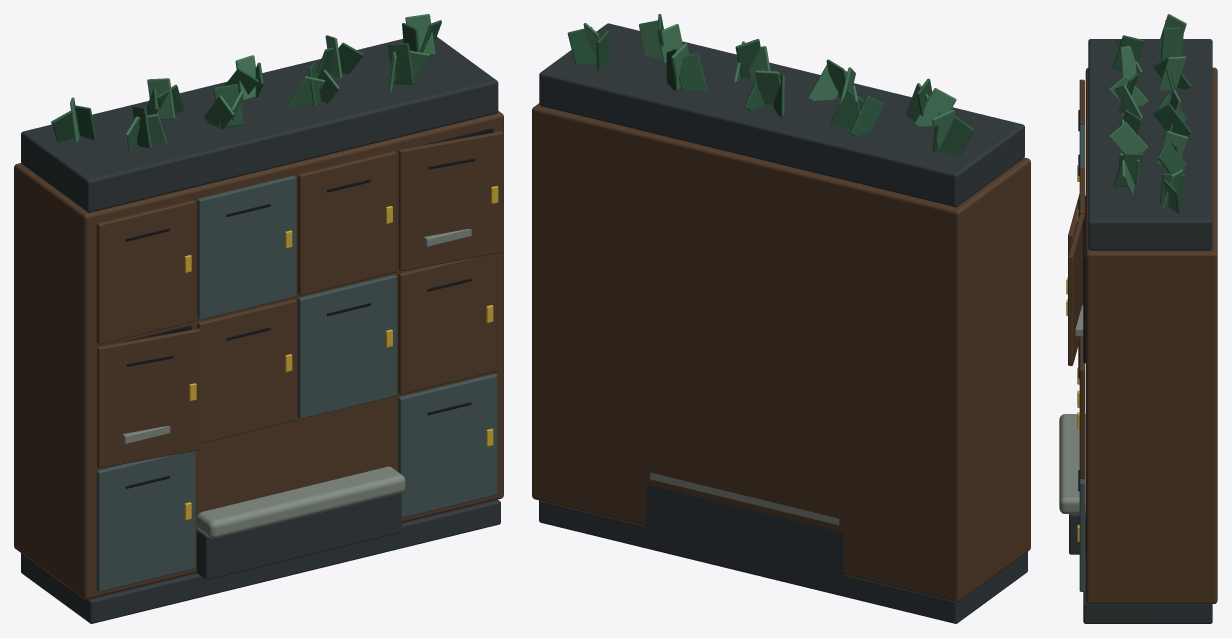
File: campus-lockers-walnut.glb
3 views of the same model, side by side, from view 1: azimuth 30°, elevation 25°; view 2: azimuth 150°, elevation 25°; view 3: azimuth 270°, elevation 25° (orthographic). The views are drawn at different scales.
Size of the model in its own units: 1.85 by 2.03 by 0.66.
